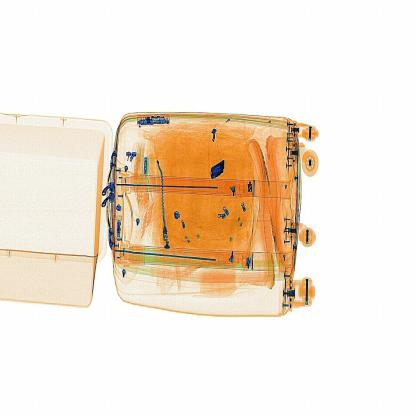knife: (206, 160, 232, 182)
